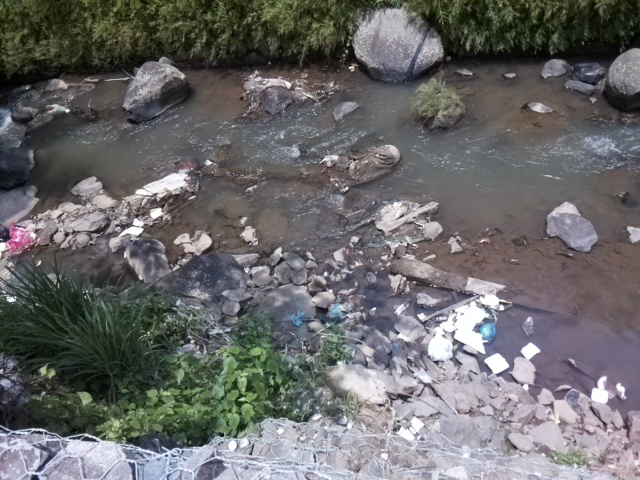Sampah_Plastik: (1, 223, 35, 257), (423, 332, 454, 363), (477, 317, 495, 344), (478, 292, 502, 310)
Sampah_Styrofoam: (451, 298, 486, 356), (483, 350, 512, 376), (587, 383, 616, 408), (519, 341, 542, 360)
